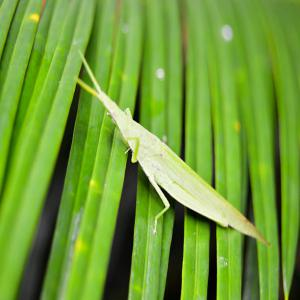locust: (76, 43, 300, 257)
